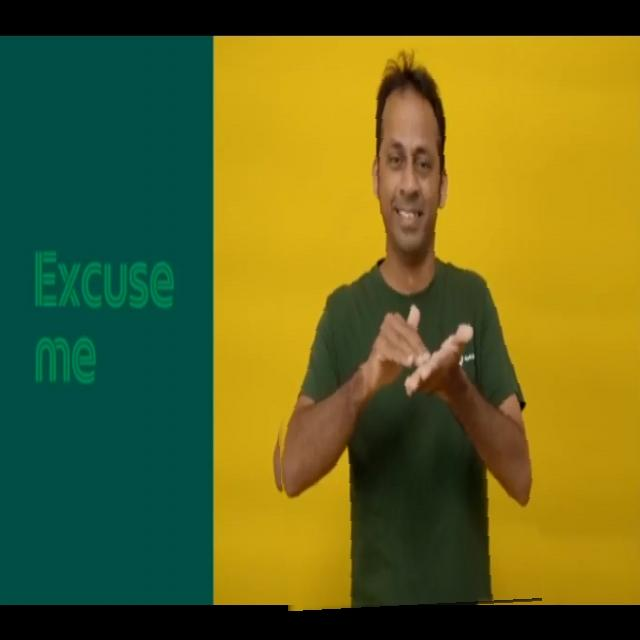ExcuseMe: (266, 46, 535, 612)
